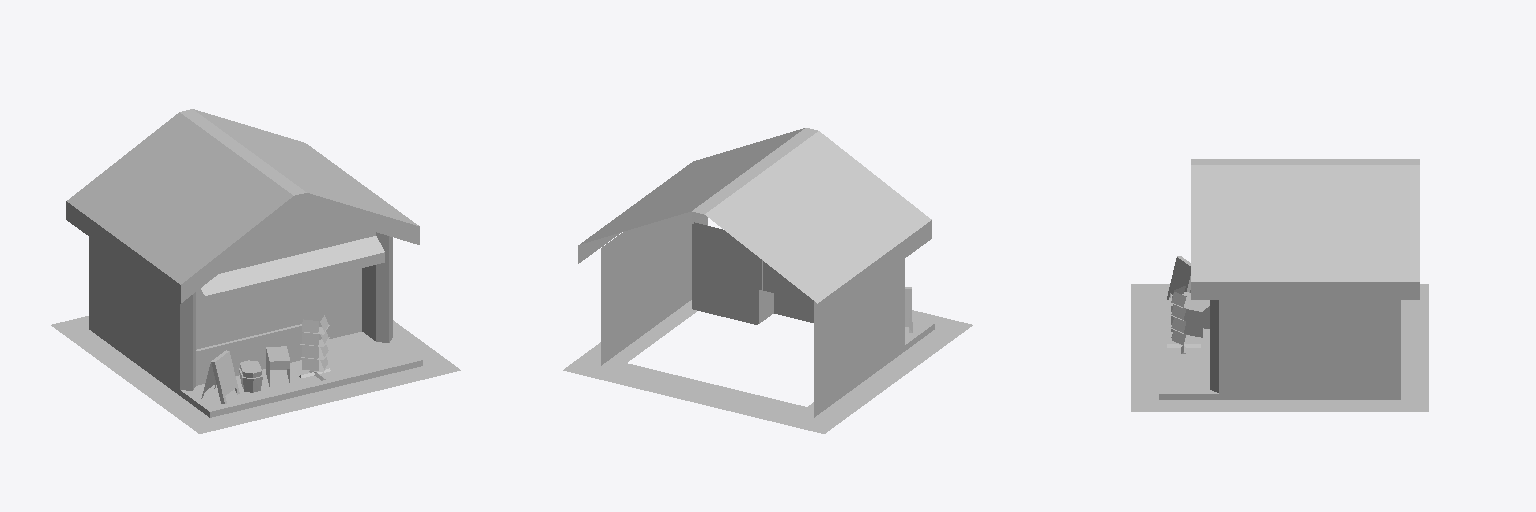
File: shop.obj
3 renders of one model, left to right at view 1: azimuth 30°, elevation 25°; view 2: azimuth 150°, elevation 25°; view 3: azimuth 270°, elevation 25°, orthographic.
Visible parts, largest first — view 1: polygon3.044, polygon8.019, polygon5.030, polygon4.035, polygon2.082, polygon6.023, polygon0.112, polygon1.109, polygon10.013, polygon9.014, polygon7.020; view 2: polygon3.044, polygon5.030, polygon2.082, polygon8.019, polygon11.004, polygon4.035, polygon6.023, polygon10.013; view 3: polygon3.044, polygon5.030, polygon2.082, polygon8.019, polygon6.023, polygon4.035, polygon10.013, polygon9.014.
Boxes of the visible parts, <box> form: polygon3.044: <box>67,109,418,295</box>; polygon8.019: <box>89,232,392,390</box>; polygon5.030: <box>89,210,375,354</box>; polygon4.035: <box>66,193,419,305</box>; polygon2.082: <box>51,316,460,433</box>; polygon6.023: <box>89,324,422,417</box>; polygon0.112: <box>201,284,296,347</box>; polygon1.109: <box>306,268,361,339</box>; polygon10.013: <box>201,346,289,403</box>; polygon9.014: <box>299,315,330,380</box>; polygon7.020: <box>239,360,262,392</box>; polygon3.044: <box>580,128,931,303</box>; polygon5.030: <box>601,211,904,376</box>; polygon2.082: <box>563,300,972,433</box>; polygon8.019: <box>601,212,904,411</box>; polygon11.004: <box>692,224,757,324</box>; polygon4.035: <box>578,220,931,321</box>; polygon6.023: <box>601,294,934,417</box>; polygon10.013: <box>759,258,912,332</box>; polygon3.044: <box>1191,159,1419,281</box>; polygon5.030: <box>1219,300,1400,358</box>; polygon2.082: <box>1131,284,1428,411</box>; polygon8.019: <box>1210,300,1400,393</box>; polygon6.023: <box>1159,290,1400,399</box>; polygon4.035: <box>1191,282,1419,299</box>; polygon10.013: <box>1167,256,1209,337</box>; polygon9.014: <box>1167,286,1200,353</box>.
Bounding box in the file's own units: 16 × 11 × 15.8.